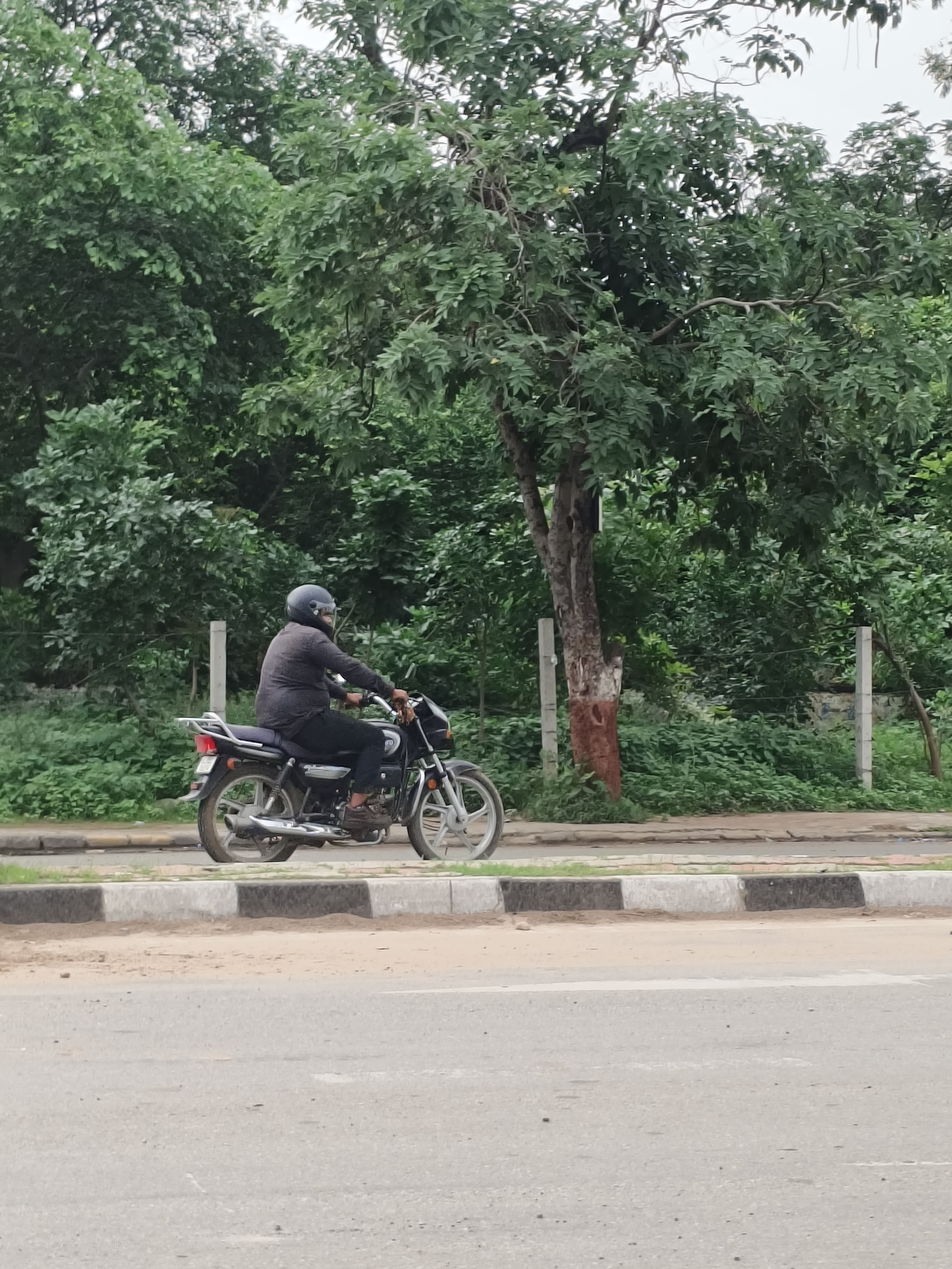BikeWithRider: (158, 553, 533, 903)
Helmet: (266, 570, 351, 655)
